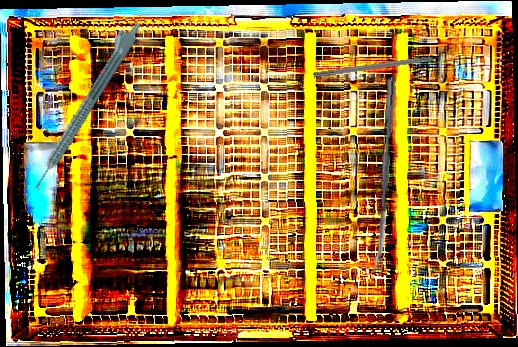Handpiece: (23, 15, 145, 193)
Hook Surgical: (313, 53, 451, 80)
Surgical Spoon: (373, 75, 396, 272)
